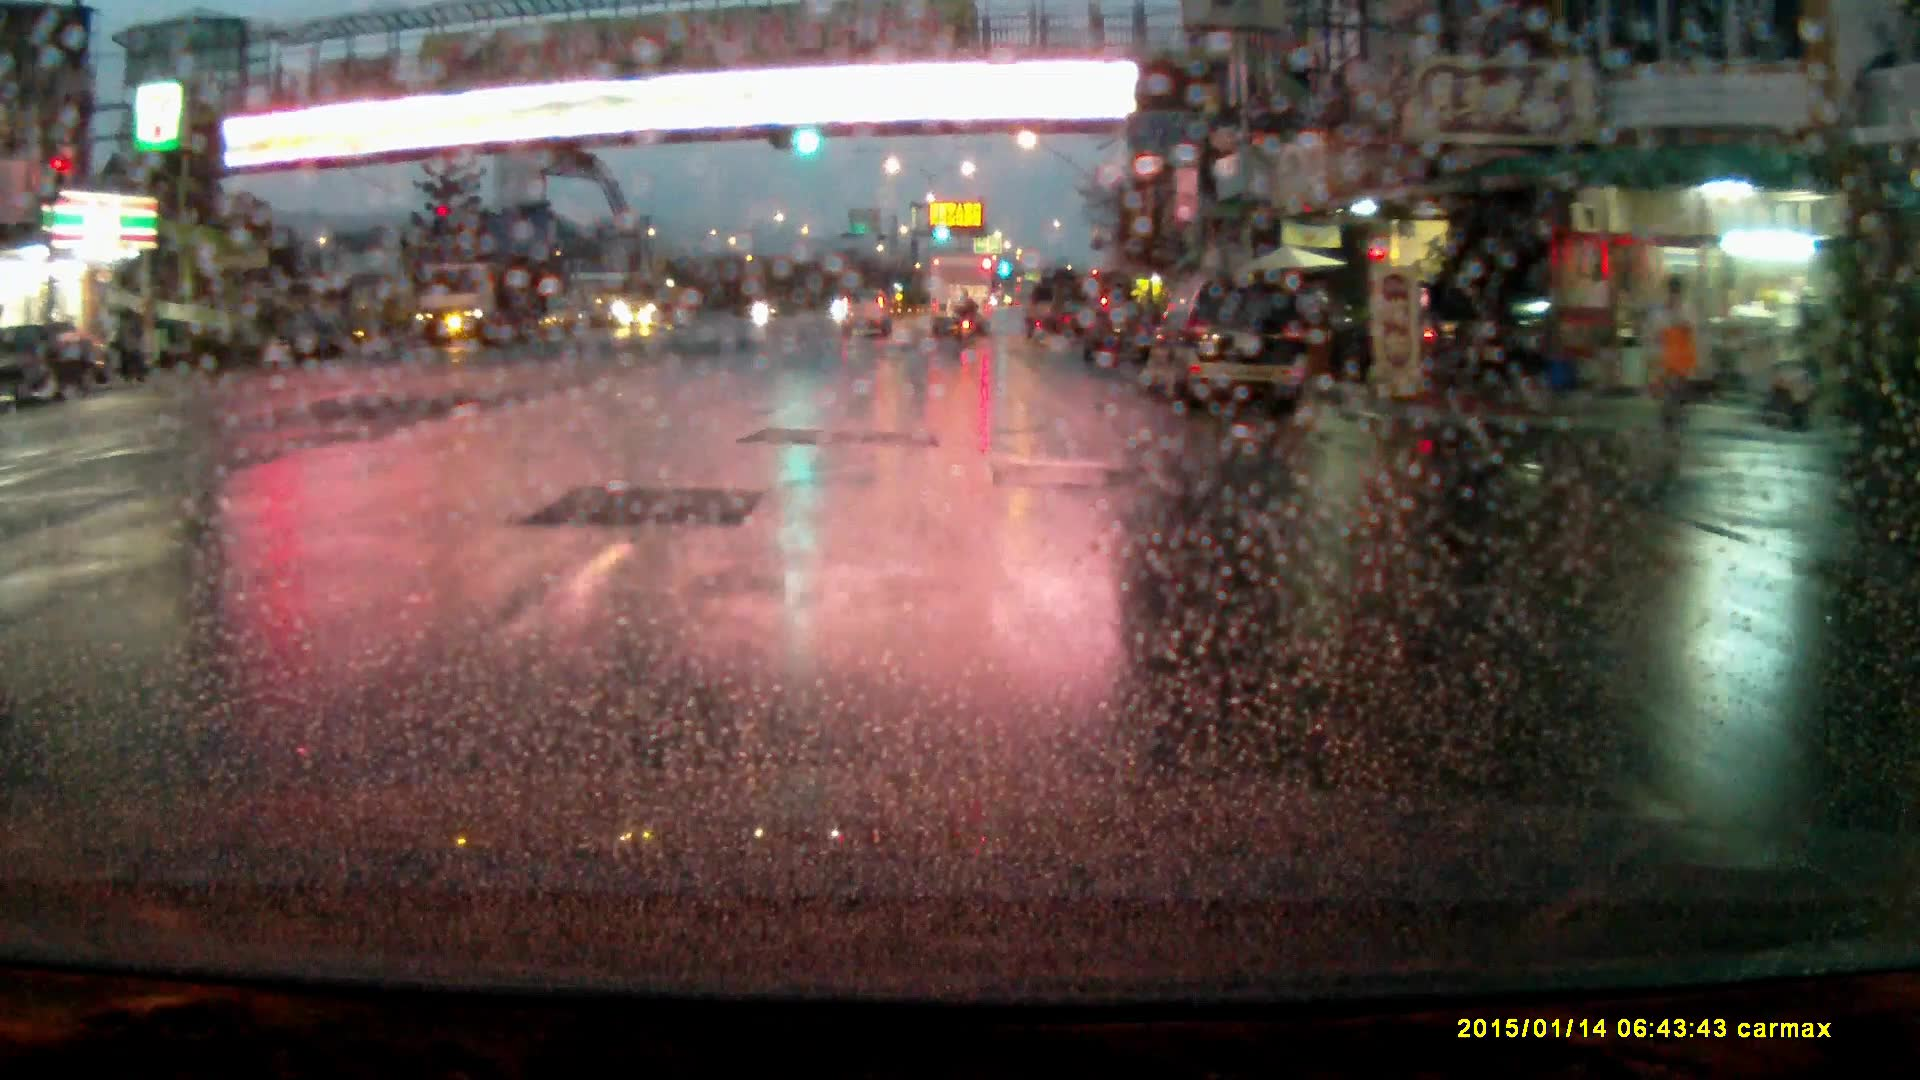pedestrian: (1637, 268, 1713, 464)
rider: (952, 292, 978, 352)
vehicle: (1148, 287, 1312, 411), (1425, 285, 1556, 387), (412, 262, 536, 356), (1, 324, 125, 413), (930, 260, 991, 336), (1082, 309, 1159, 368), (616, 284, 686, 335), (840, 294, 894, 343)
